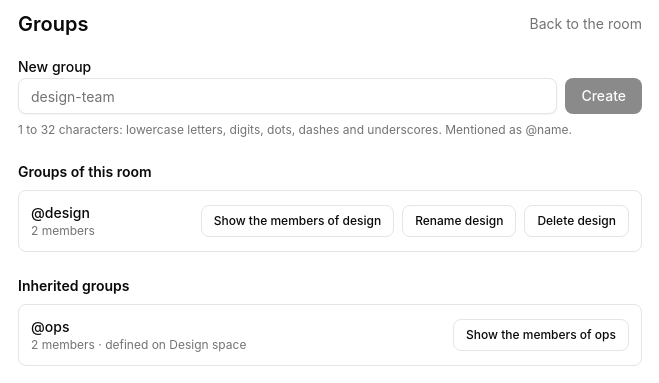
Scenario: RoomGroups › creates a group and refreshes the list
Expected: the text "@design" is shown, [31,204,90,221]
Type "reviewers" into the field labelled "New group". click: (288, 96)
box: [18,78,557,114]
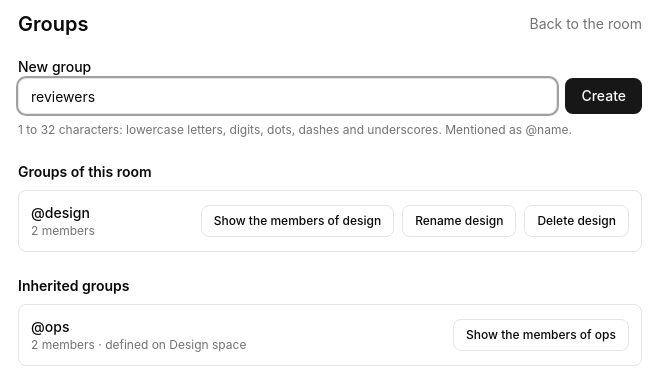
Click the button "Create". click: (604, 96)
box: [565,78,642,114]
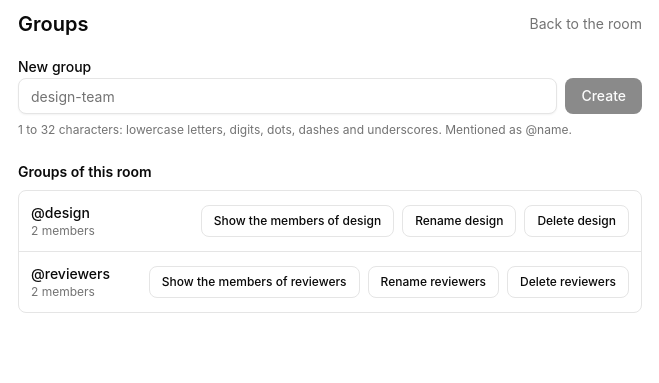
Expected: the text "@reviewers" is shown, [31,265,110,282]
Expected: the field labelled "New group" is empty, [18,78,557,114]
